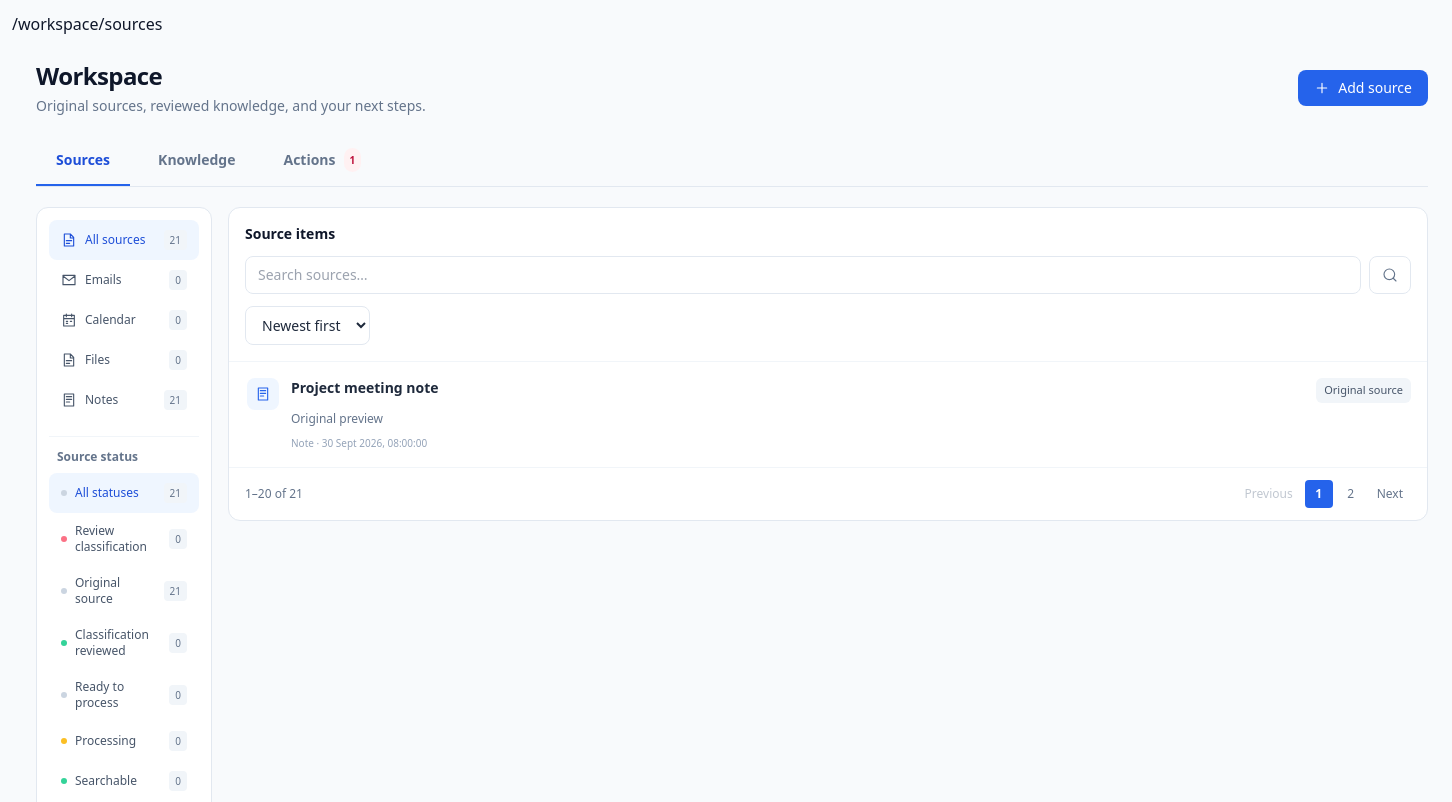
Workspace browser › requests the next server page on demand and reuses an unchanged cached page
This screenshot has width=1452, height=802.
Expected: the button "Project meeting note" is shown, x1=229 y1=362 x2=1427 y2=467
Click the button "Next" at (1390, 494), box x1=1369 y1=480 x2=1411 y2=508
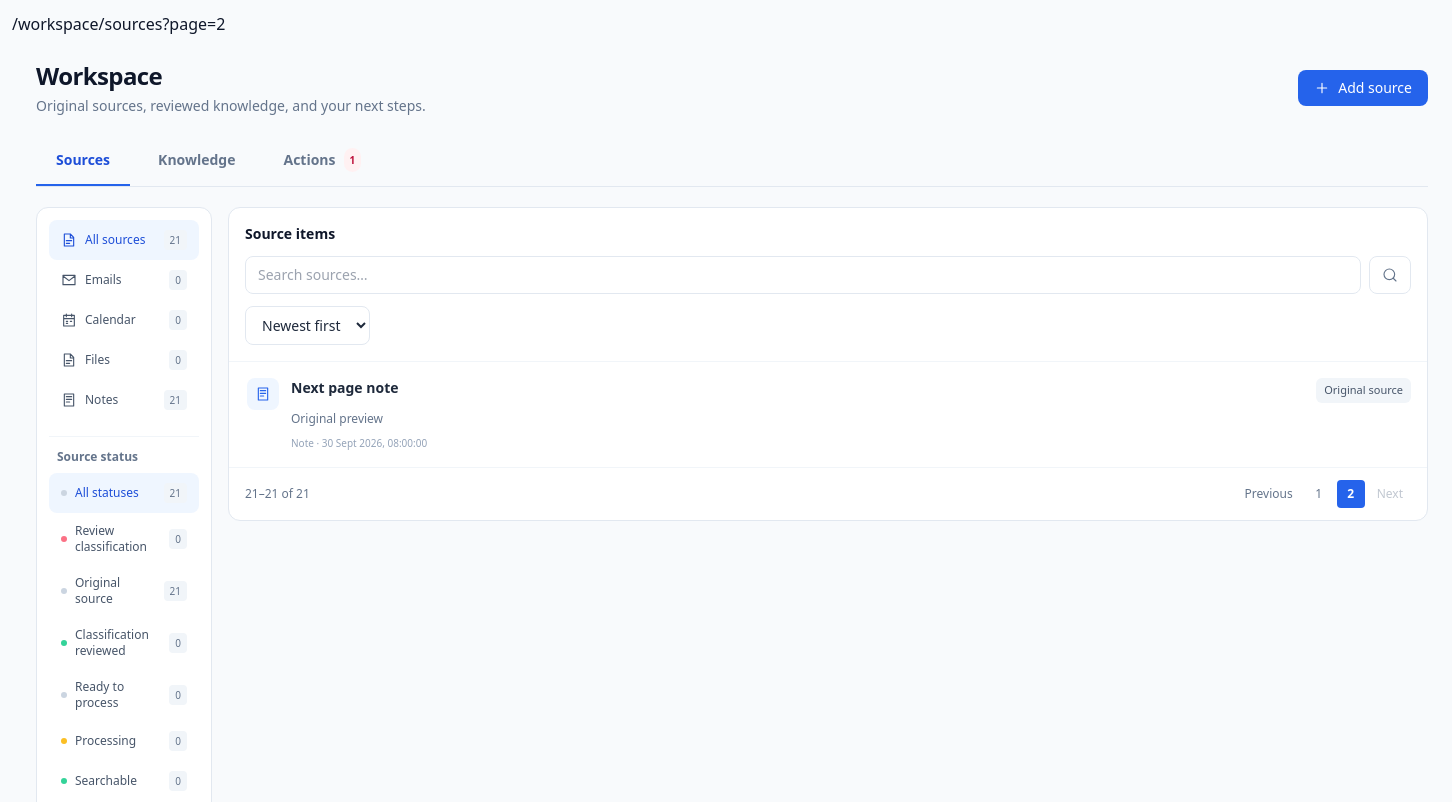
Expected: the button "Next page note" is shown, x1=229 y1=362 x2=1427 y2=467
Click the button "Previous" at (1269, 494), box x1=1236 y1=480 x2=1301 y2=508
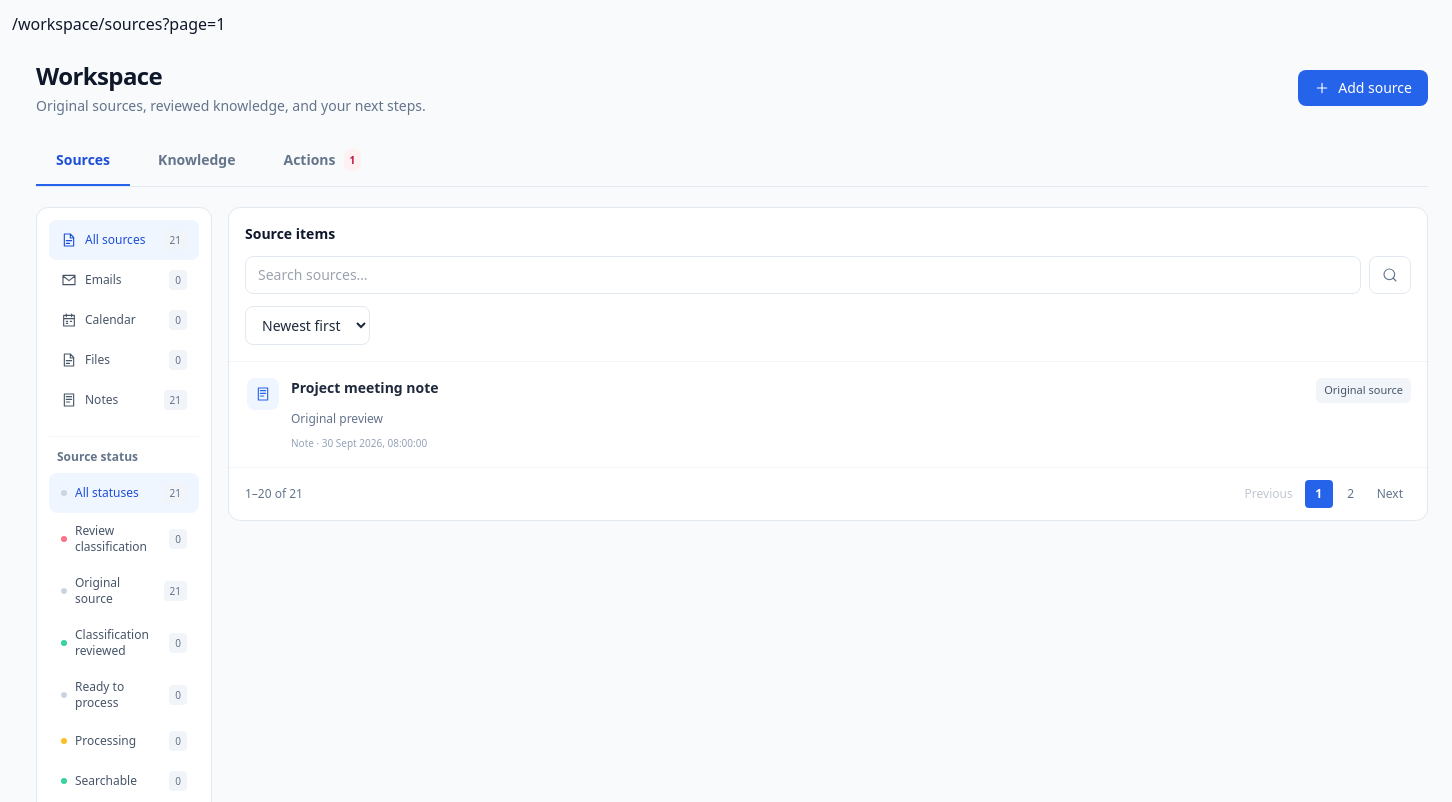
Expected: the button "Project meeting note" is shown, x1=229 y1=362 x2=1427 y2=467
Click the link "Knowledge" at (197, 160), box x1=158 y1=150 x2=236 y2=169
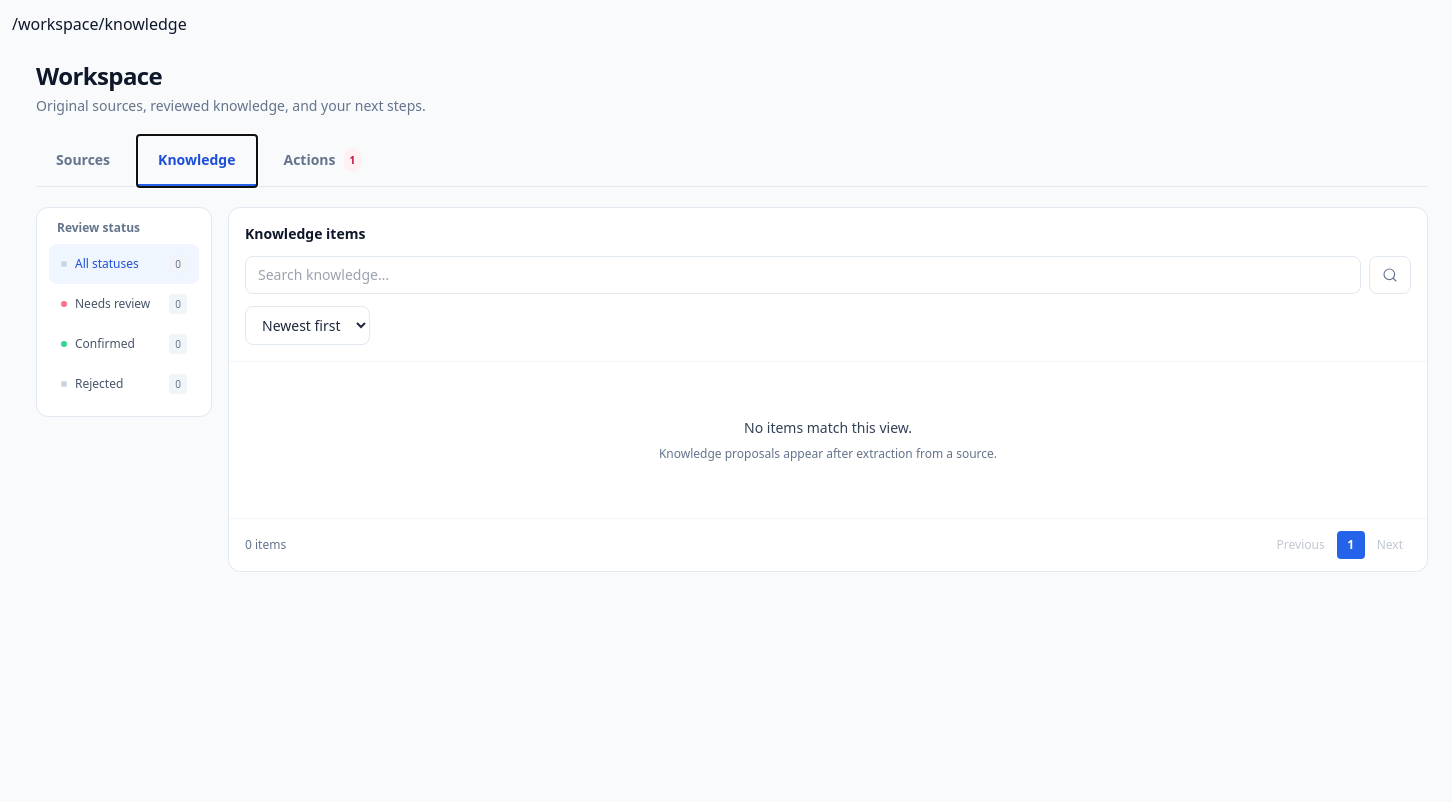
Expected: the text "No items match this view." is shown, x1=744 y1=418 x2=912 y2=437
Click the link "Sources" at (83, 160), box x1=56 y1=150 x2=110 y2=169
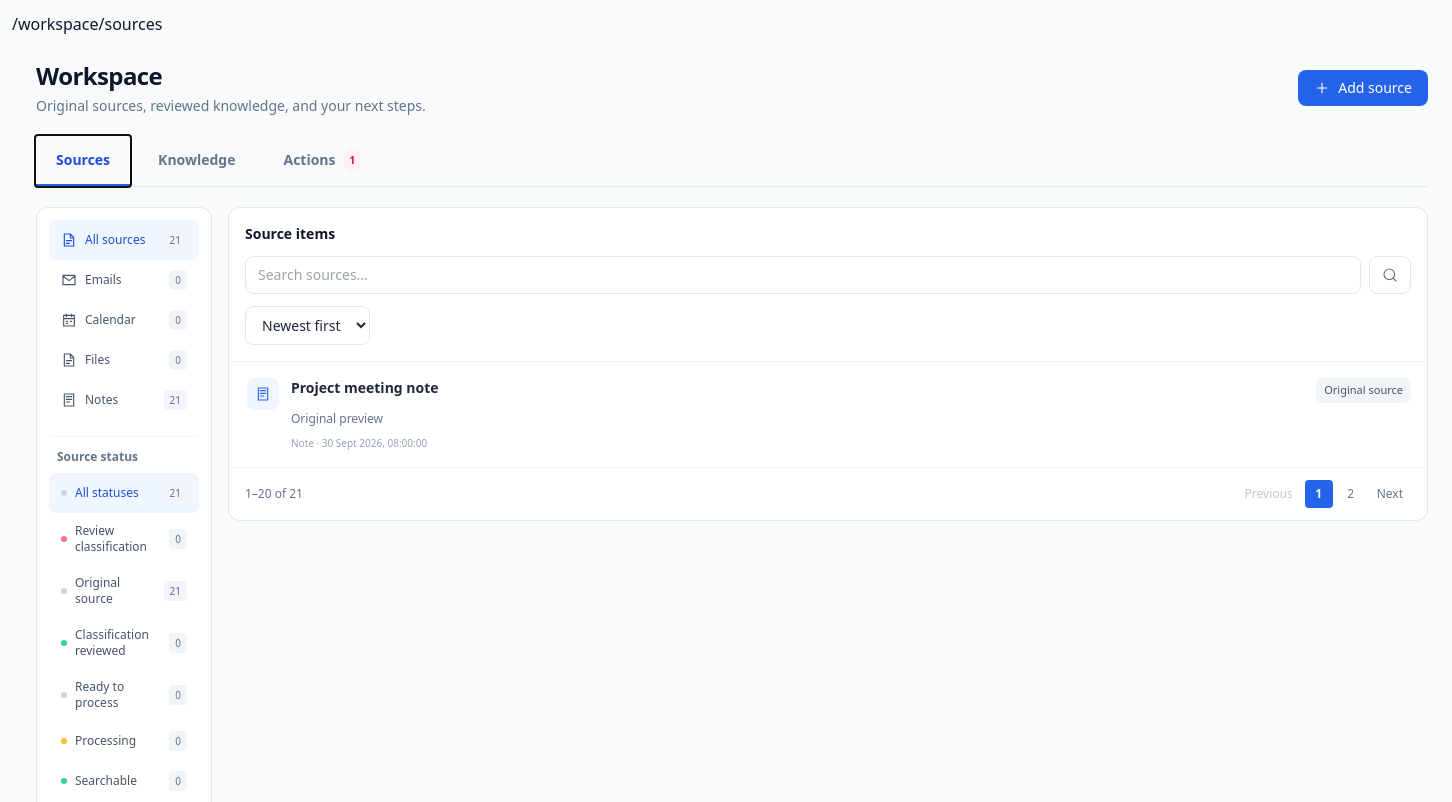
Expected: the button "Project meeting note" is shown, x1=229 y1=362 x2=1427 y2=467
